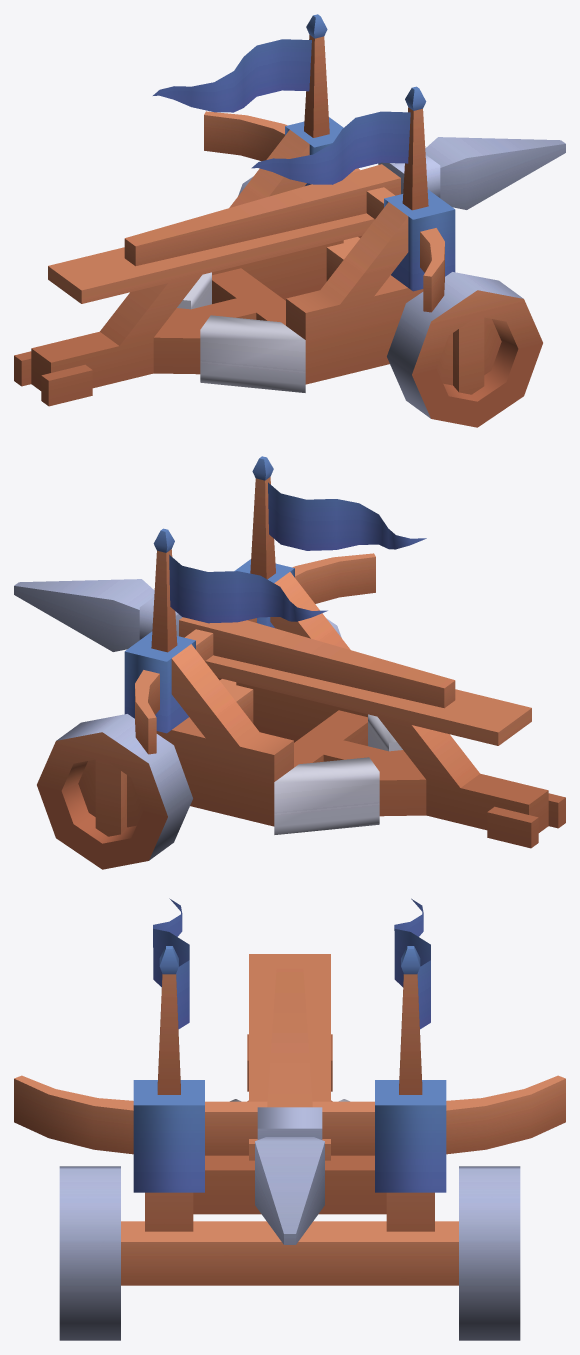
The model's file is siege-ballista.glb.
3 views of the same model, one above another, from view 1: azimuth 30°, elevation 25°; view 2: azimuth 150°, elevation 25°; view 3: azimuth 270°, elevation 25° (orthographic). The views are drawn at different scales.
Visible parts, largest first — view 1: siege-ballista, wheel, arrow; view 2: siege-ballista, wheel, arrow; view 3: siege-ballista, wheel (×2), arrow.
Boxes of the visible parts, x1,y1,x2,y2 form: siege-ballista: (14, 14, 455, 406); wheel: (387, 272, 542, 427); arrow: (124, 137, 565, 266); siege-ballista: (124, 456, 565, 848); wheel: (37, 714, 192, 869); arrow: (14, 579, 455, 708); siege-ballista: (14, 898, 565, 1285); wheel (×2): (59, 1166, 520, 1340); arrow: (255, 968, 324, 1244).
Size of the model in its own units: 1.63 by 0.9103 by 1.2.
Materials: 1 (1 with a texture image).
